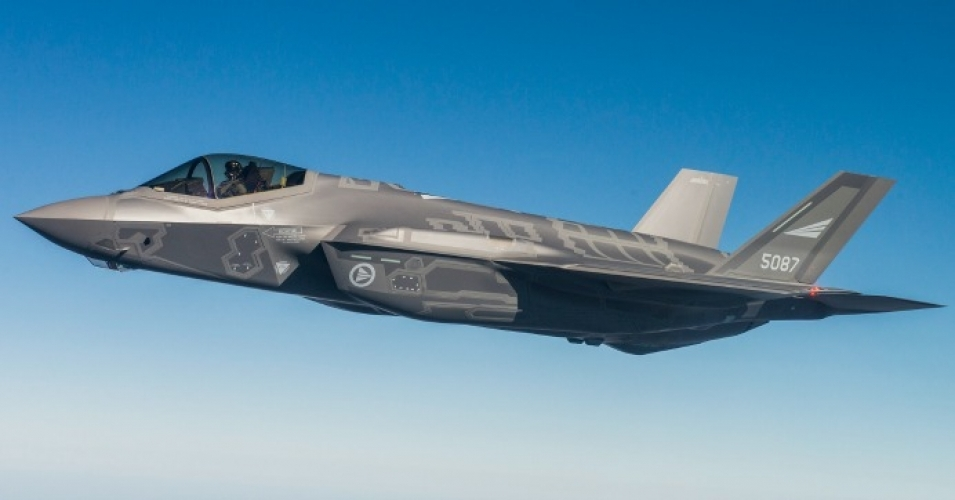F-35 Lightning: (5, 111, 955, 405)
